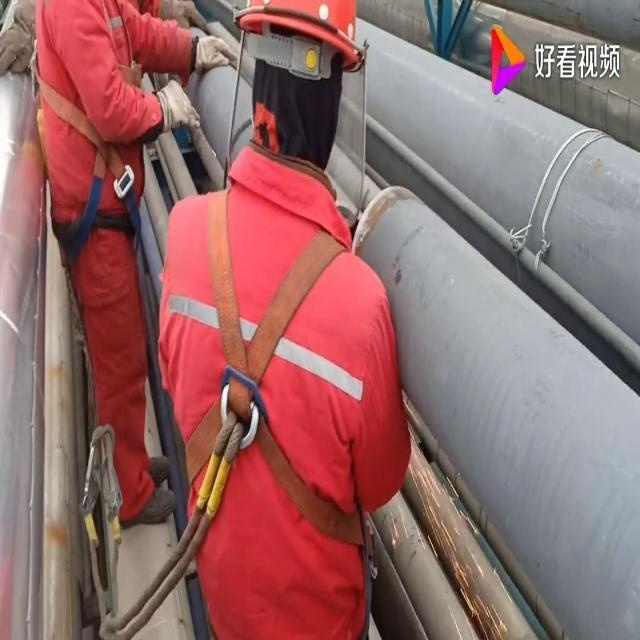Arnes_seguridad: (172, 169, 378, 570), (27, 0, 150, 268)
